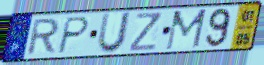9: (204, 7, 233, 50)
M: (163, 8, 209, 53)
P: (55, 16, 91, 56)
R: (24, 17, 62, 57)
U: (96, 11, 134, 55)
Z: (128, 11, 163, 53)
